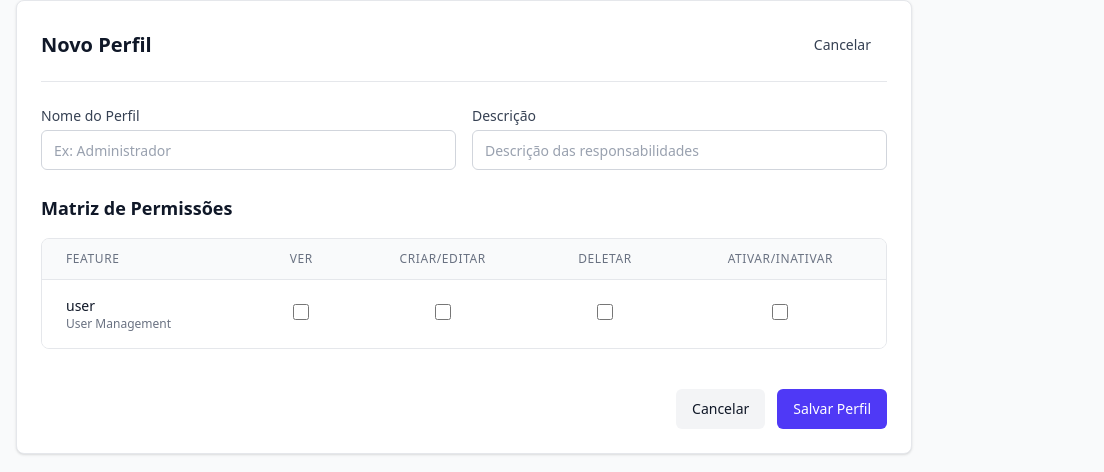
Test: RoleFormPage › handles submission error without message
Type "Admin" into the field labelled "Nome do Perfil". click: coordinates (248, 150)
box: [41, 130, 456, 170]
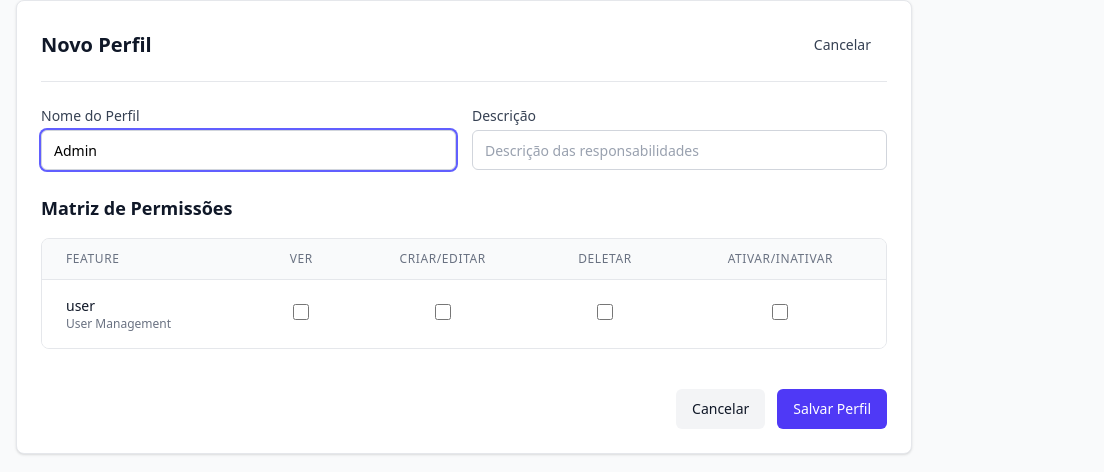
Type "Desc" into the field labelled "Descrição". click: coordinates (680, 150)
box: [472, 130, 887, 170]
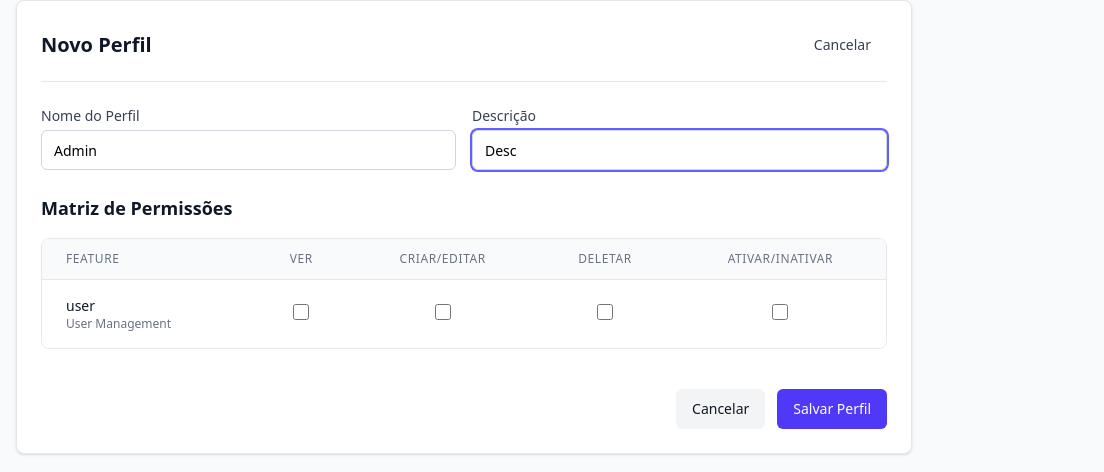
Click the button "Salvar Perfil". click: coordinates (832, 409)
box: [777, 389, 887, 429]
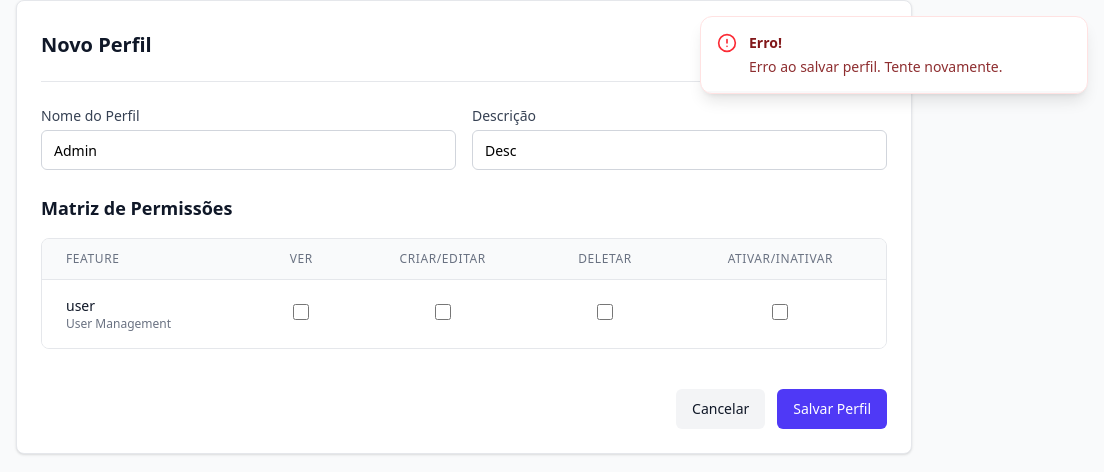
Check: the text "Erro ao salvar perfil. Tente novamente." is shown, box [749, 57, 1002, 77]
